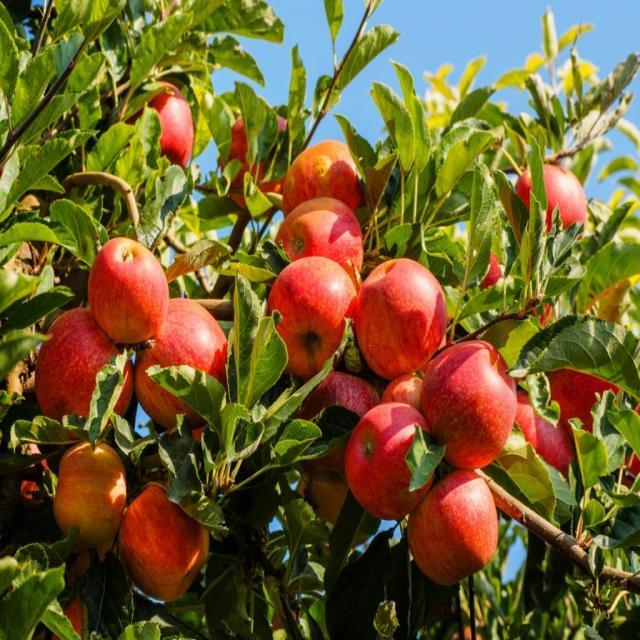Red Apple: (137, 295, 237, 433), (35, 307, 138, 431), (359, 260, 452, 381), (124, 474, 217, 592), (426, 345, 516, 461), (267, 261, 360, 372), (348, 398, 433, 517), (415, 468, 500, 583), (90, 236, 170, 344), (301, 373, 381, 480), (497, 400, 575, 504), (278, 197, 369, 283), (56, 440, 131, 544), (222, 107, 299, 208), (514, 166, 588, 269), (289, 133, 363, 228), (121, 76, 197, 167), (554, 361, 619, 445), (379, 371, 437, 429)
